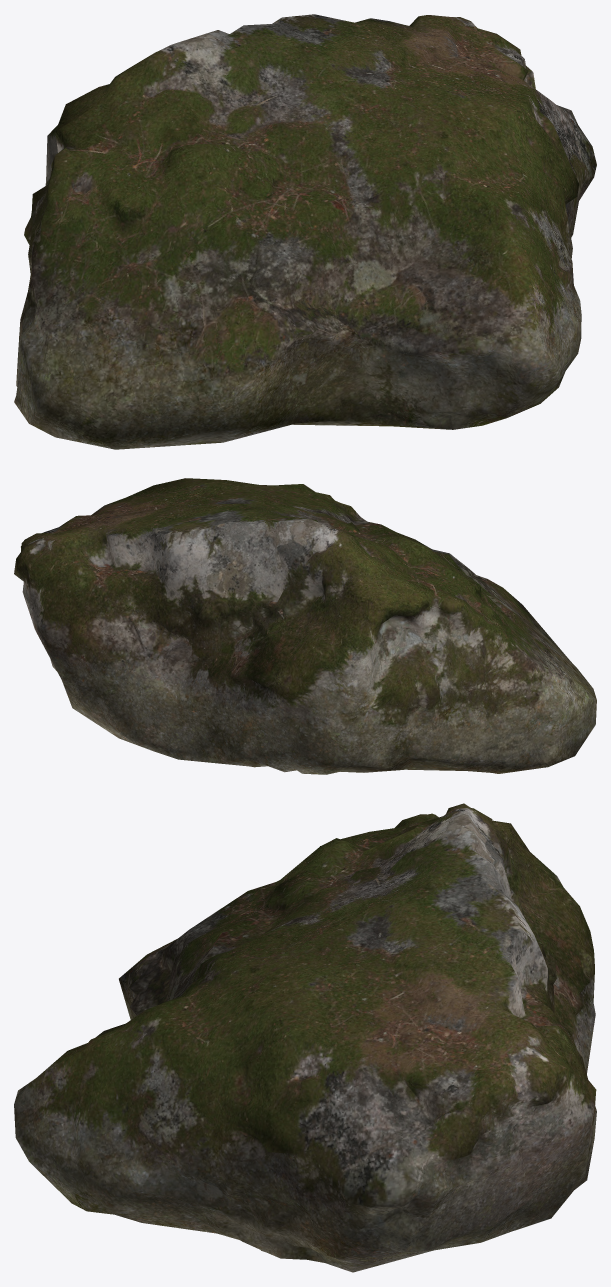
Rendered from xjijbgx_tier_3.gltf.
3 renders of one model, top to bottom at view 1: azimuth 30°, elevation 25°; view 2: azimuth 150°, elevation 25°; view 3: azimuth 270°, elevation 25°, orthographic. The views are drawn at different scales.
Visible parts, largest first — view 1: xjijbgx_LOD0_TIER3_000; view 2: xjijbgx_LOD0_TIER3_000; view 3: xjijbgx_LOD0_TIER3_000.
Boxes of the visible parts, bbox=[...] form: xjijbgx_LOD0_TIER3_000: bbox=[14, 14, 596, 449]; xjijbgx_LOD0_TIER3_000: bbox=[14, 478, 596, 774]; xjijbgx_LOD0_TIER3_000: bbox=[14, 803, 596, 1272].
Bounding box in the file's own units: 1.18 × 0.5537 × 0.8966.
Materials: 1 (1 with a texture image).
